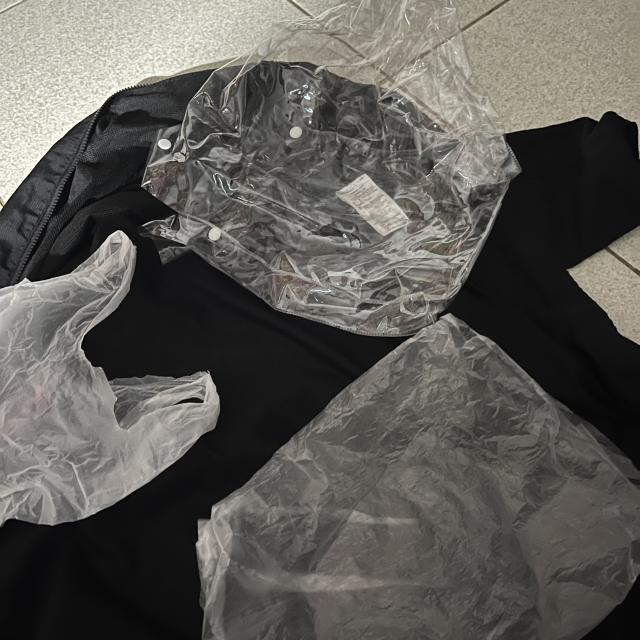Single-layer Plastic: (198, 315, 640, 640), (142, 0, 519, 336), (0, 231, 220, 524)
